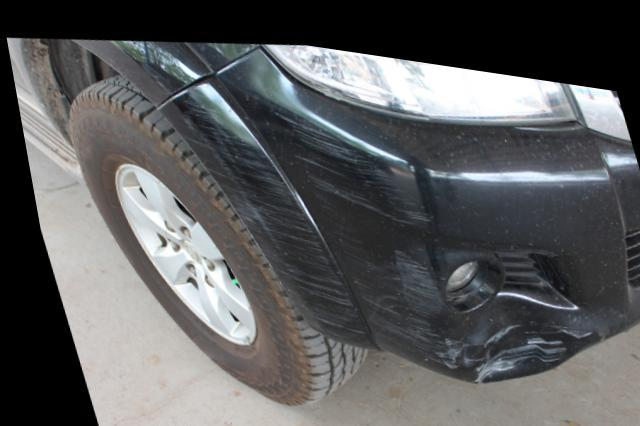dent: (455, 283, 560, 364)
rub: (162, 83, 458, 358)
